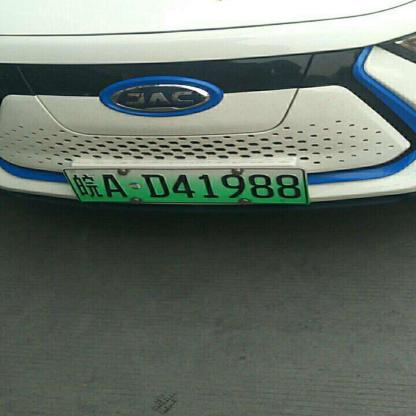lp: (62, 168, 308, 205)
